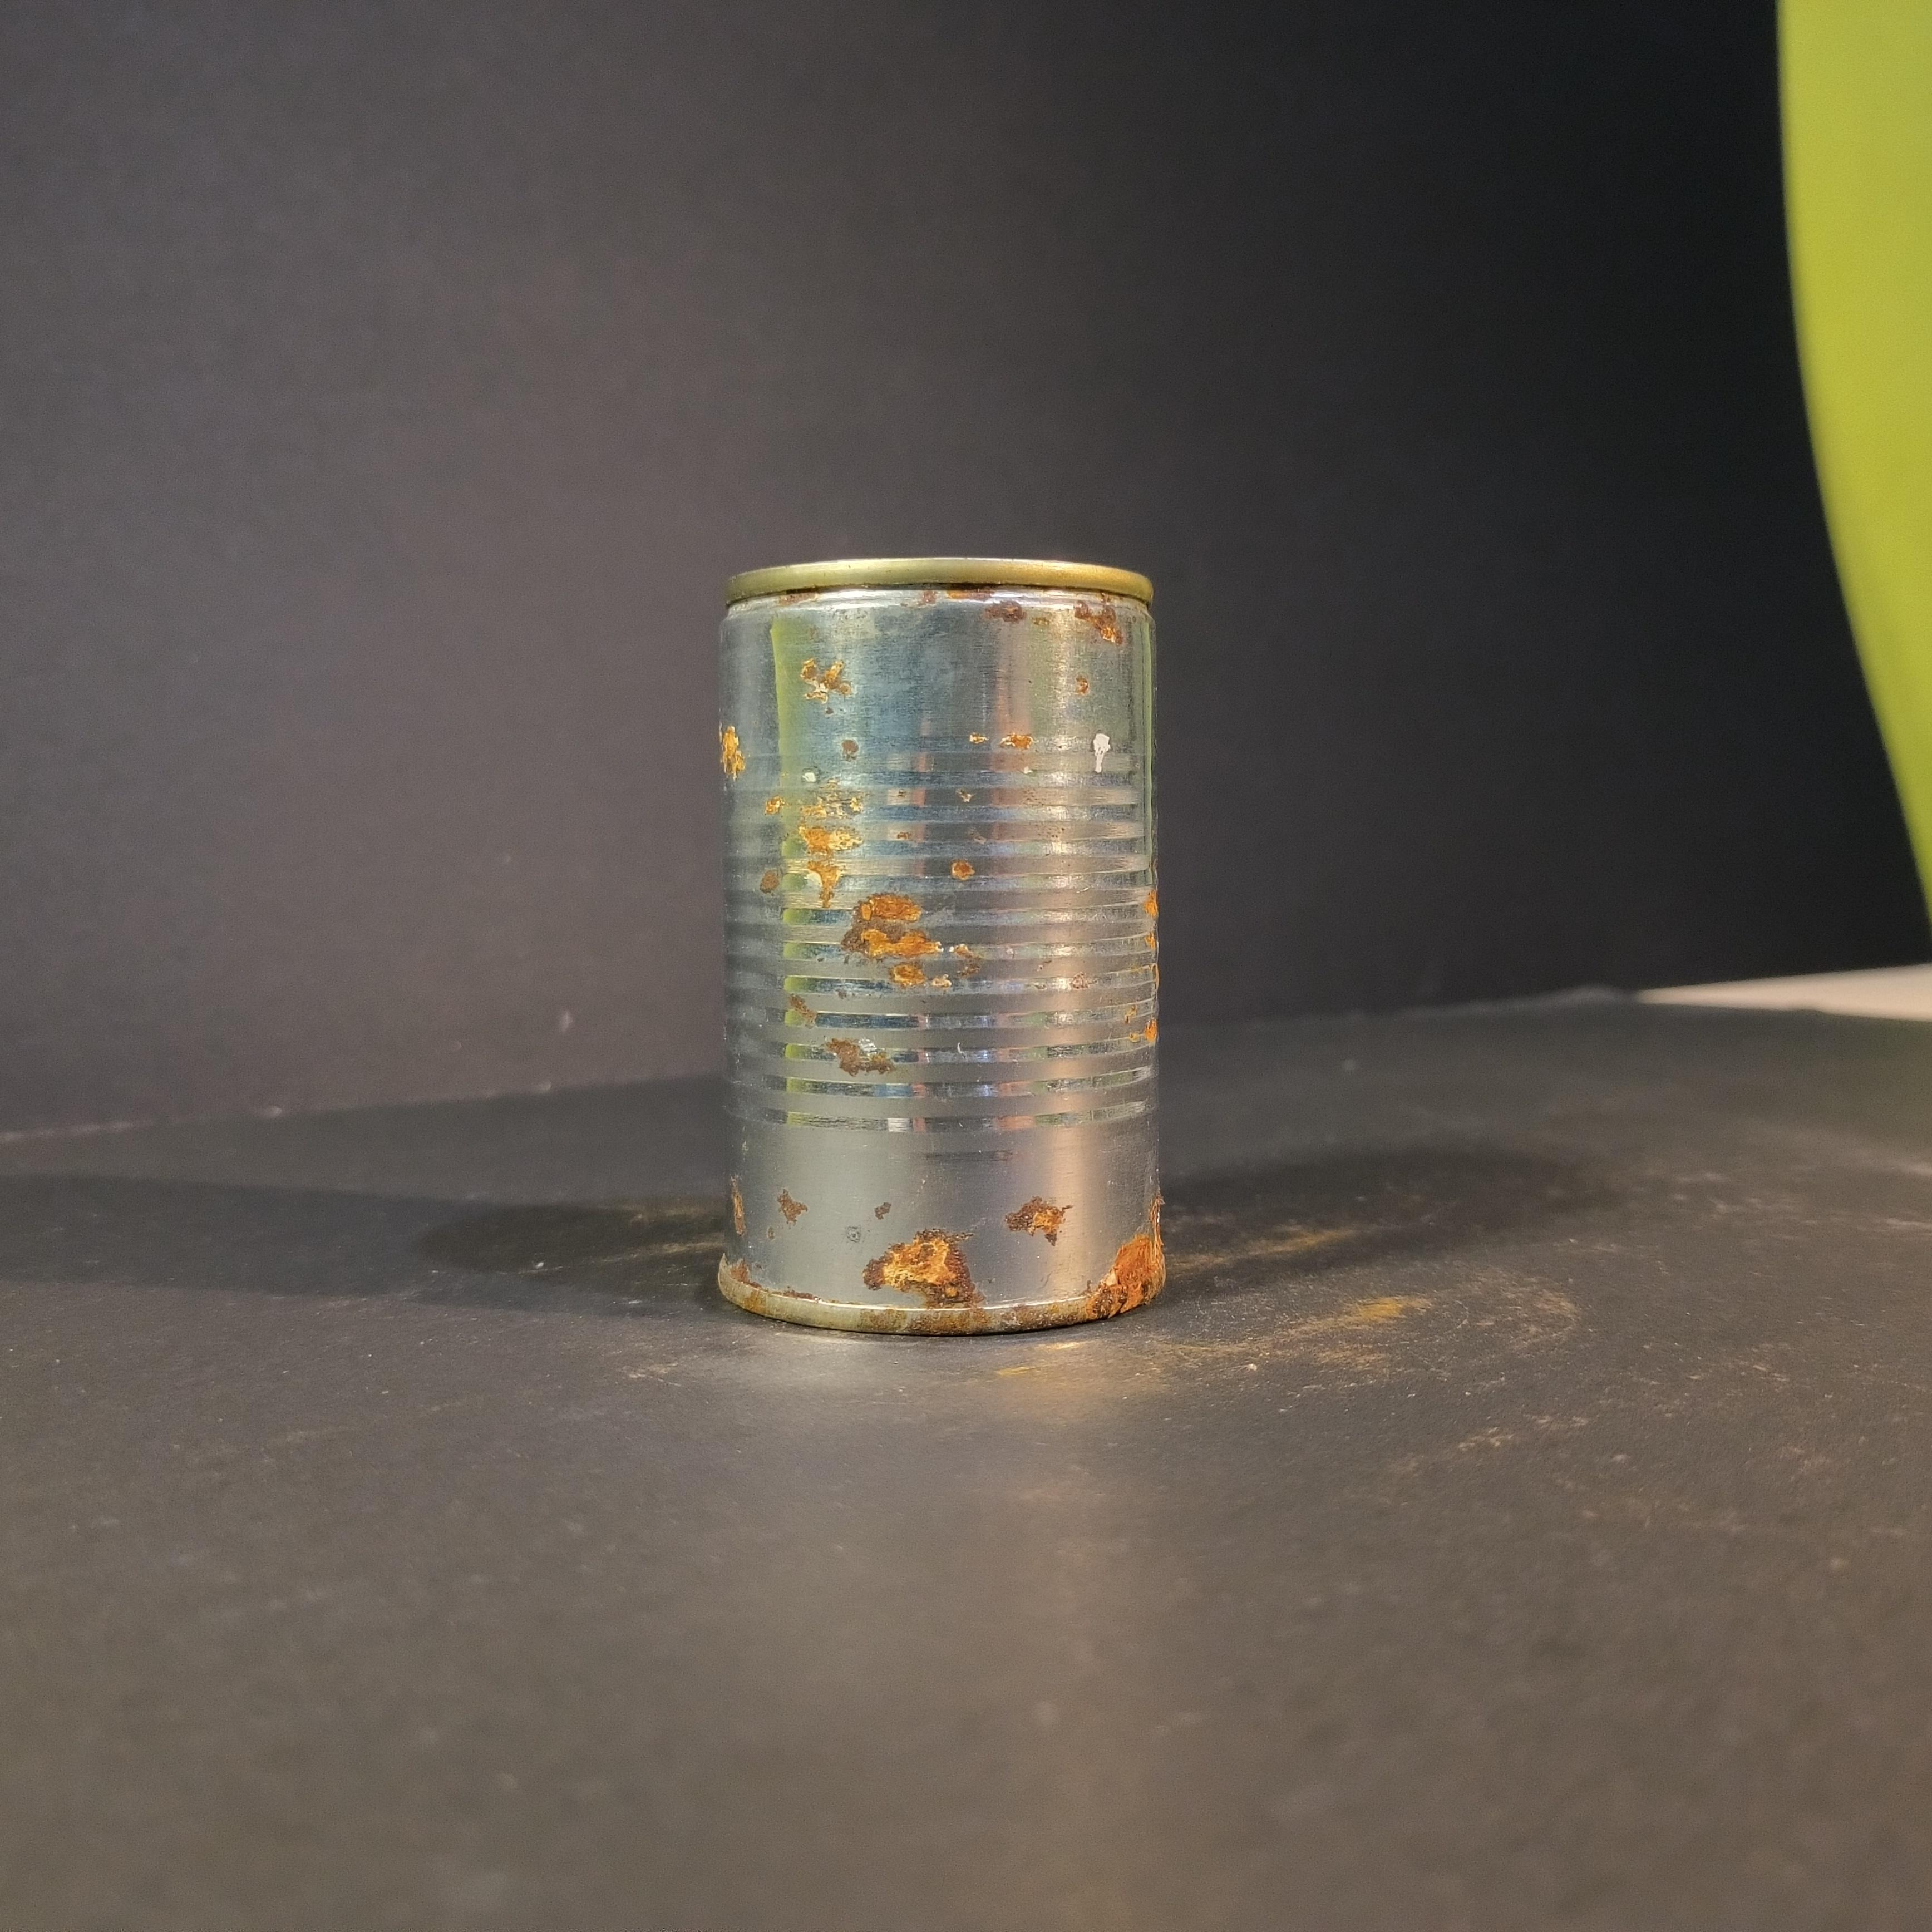Rusted: (690, 540, 1187, 1357)
